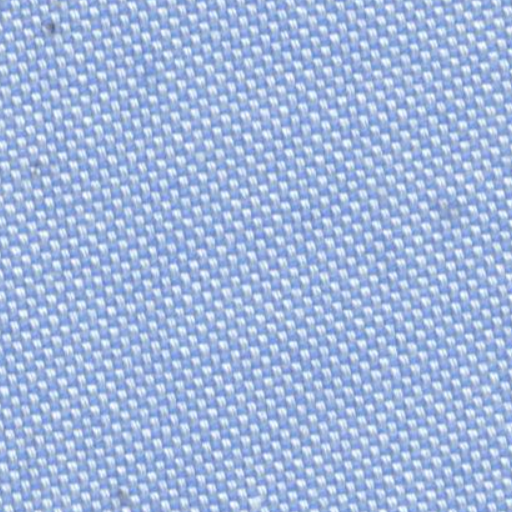WuZi: (29, 11, 80, 52)
